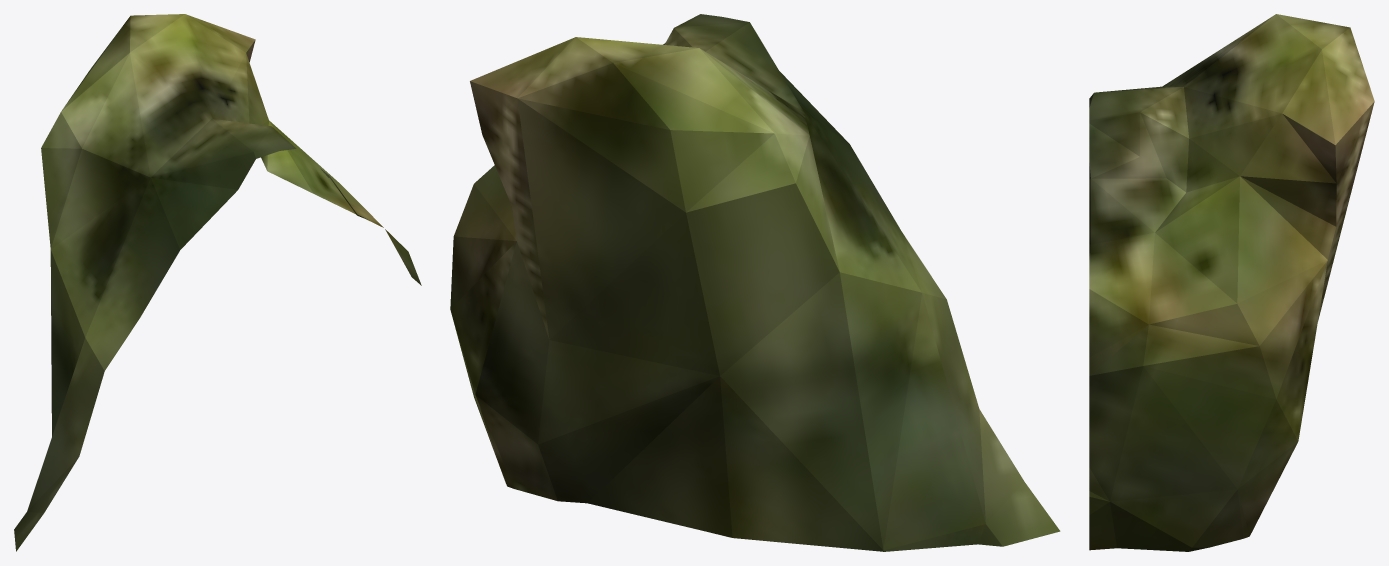
The picture shows the model from 3 angles, left to right: view 1: azimuth 30°, elevation 25°; view 2: azimuth 150°, elevation 25°; view 3: azimuth 270°, elevation 25°; orthographic projection. The views are drawn at different scales.
Size of the model in its own units: 0.2353 by 0.2131 by 0.1252.
1 material, 1 textured.
